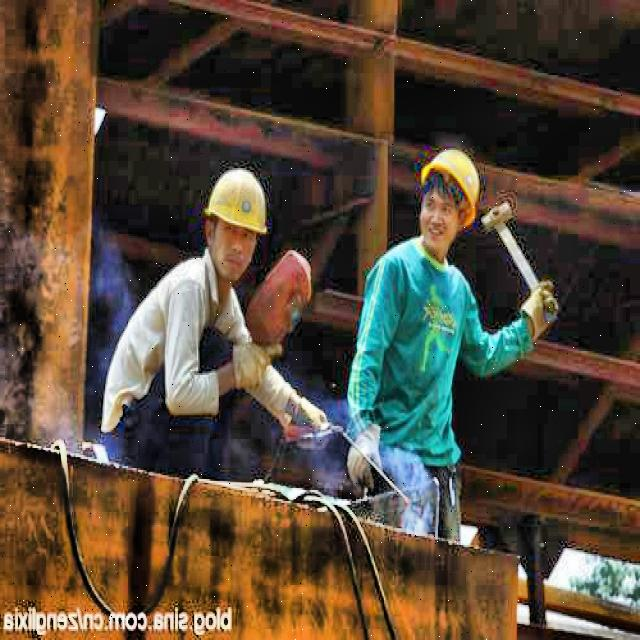helmet: (196, 159, 272, 287), (407, 136, 485, 260)
